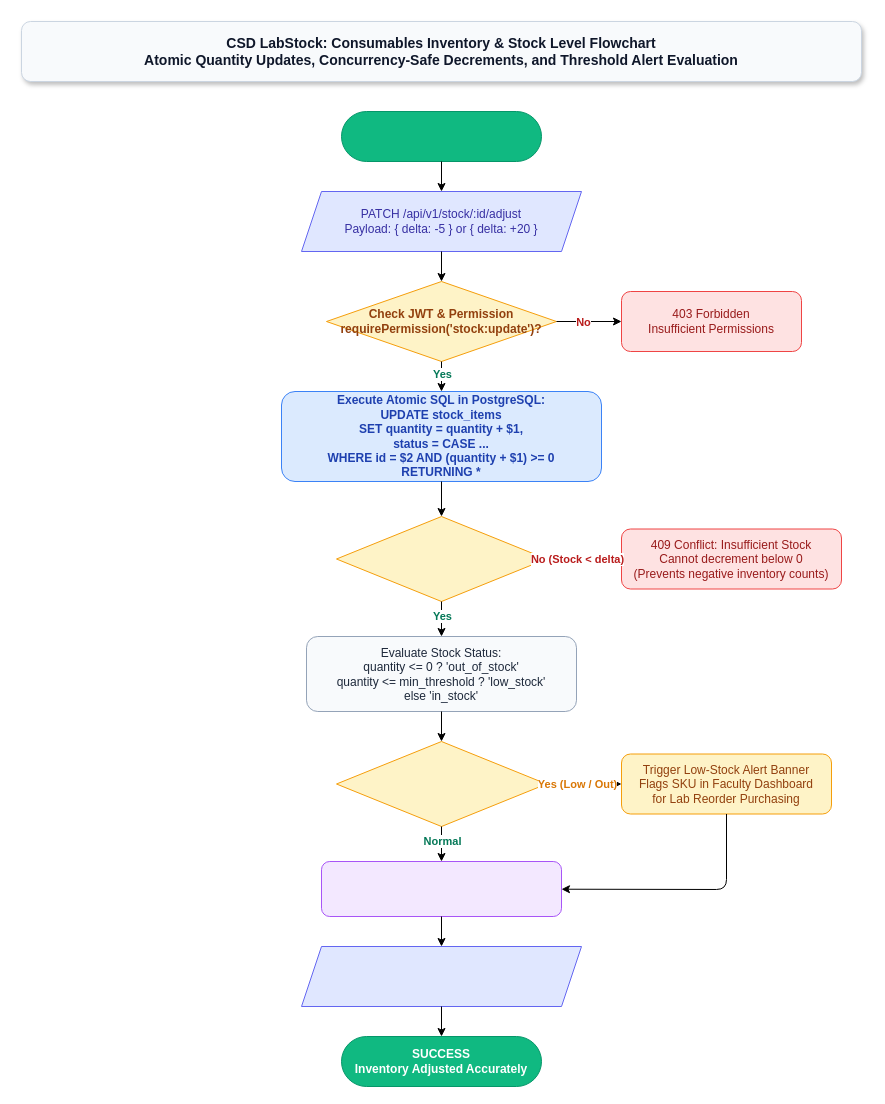
The diagram is 885 pixels wide and 1104 high, and some of its shapes have lost their labels. The centre of each missing label's shape, as x and y in pixels:
Invalidate Stock Cache cache.invalidatePattern('stock:'): the point at 441,888
Return 200 OK + Updated Item Client UI Updates Count & Status Badge: the point at 441,976
Row Updated Successfully? (Enough Stock Remaining?): the point at 441,559
START Stock Consumed or Restocked: the point at 441,136
Status is 'low_stock' or 'out_of_stock'?: the point at 441,783
